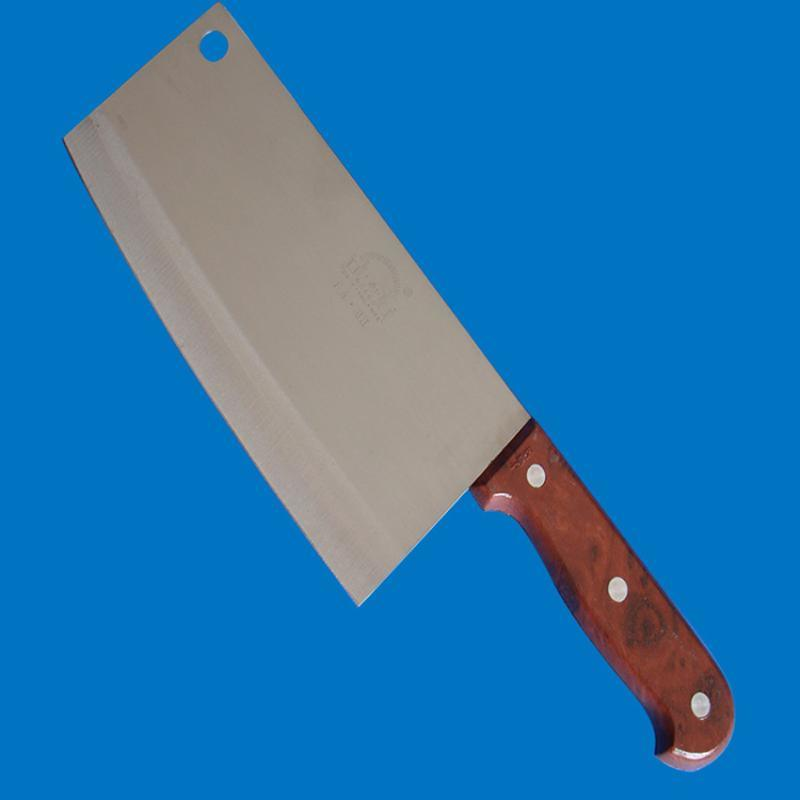knief: (70, 1, 735, 757)
